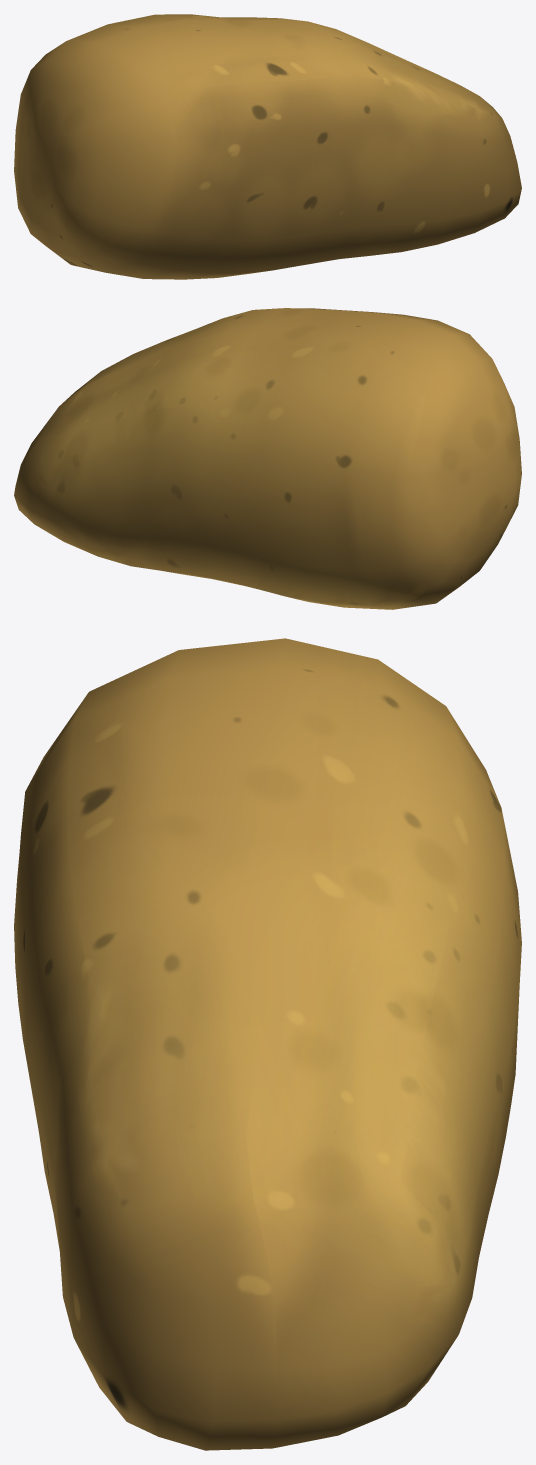
File: PlantPotato1stStage.fbx
The picture shows the model from 3 angles, top to bottom: view 1: azimuth 30°, elevation 25°; view 2: azimuth 150°, elevation 25°; view 3: azimuth 270°, elevation 25°; orthographic projection. The views are drawn at different scales.
Parts seen in each view (by area): view 1: Potato; view 2: Potato; view 3: Potato.
Part boxes in pixels (left/top/right/bottom): Potato: left=14, top=14, right=521, bottom=279; Potato: left=14, top=308, right=521, bottom=609; Potato: left=14, top=638, right=521, bottom=1450.
Size of the model in its own units: 27.42 by 14.6 by 13.83.
1 material, 1 textured.
